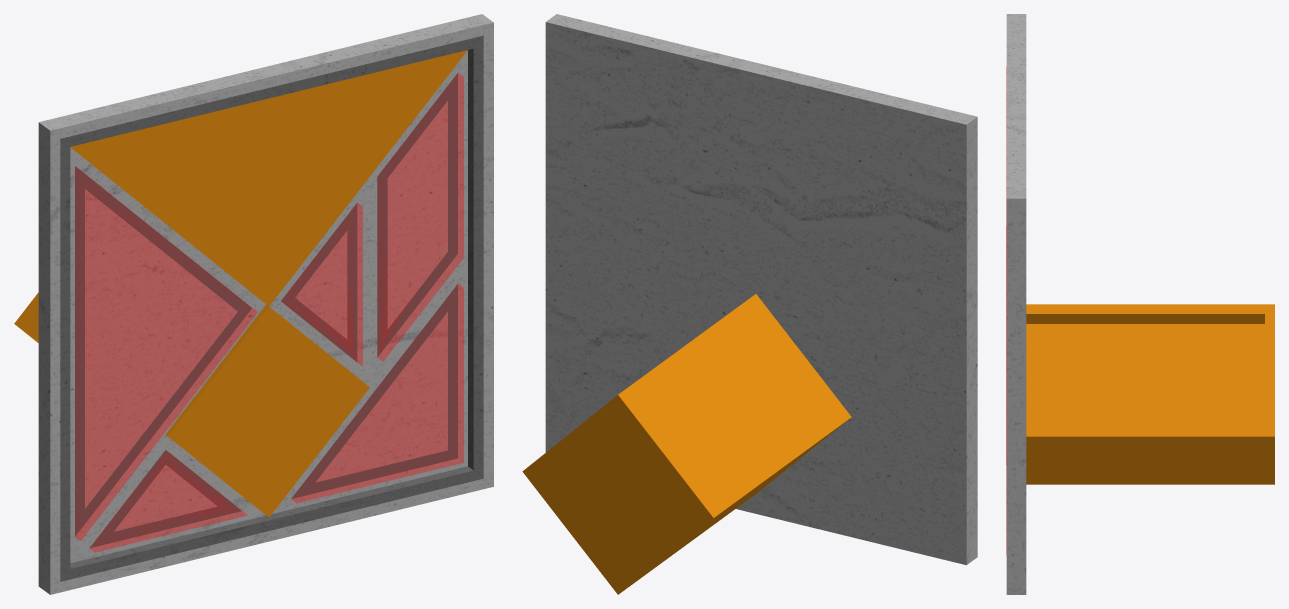
The model's file is Tangram Frame.fbx.
The picture shows the model from 3 angles, left to right: view 1: azimuth 30°, elevation 25°; view 2: azimuth 150°, elevation 25°; view 3: azimuth 270°, elevation 25°; orthographic projection. The views are drawn at different scales.
Parts seen in each view (by area): view 1: Tangram Frame, IN1, KeyHolder, IN5, IN2, IN3, IN4; view 2: Tangram Frame, KeyHolder; view 3: KeyHolder, Tangram Frame.
Part boxes in pixels (x1,y1,x2,y2): Tangram Frame: (38, 14, 493, 594); IN1: (75, 166, 257, 540); KeyHolder: (14, 292, 369, 517); IN5: (377, 73, 463, 361); IN2: (291, 284, 463, 502); IN3: (89, 450, 247, 552); IN4: (281, 203, 362, 366); Tangram Frame: (545, 14, 977, 565); KeyHolder: (522, 294, 851, 594); KeyHolder: (1026, 304, 1274, 484); Tangram Frame: (1006, 14, 1026, 594).
Size of the model in its own units: 0.88 by 0.88 by 0.541.
